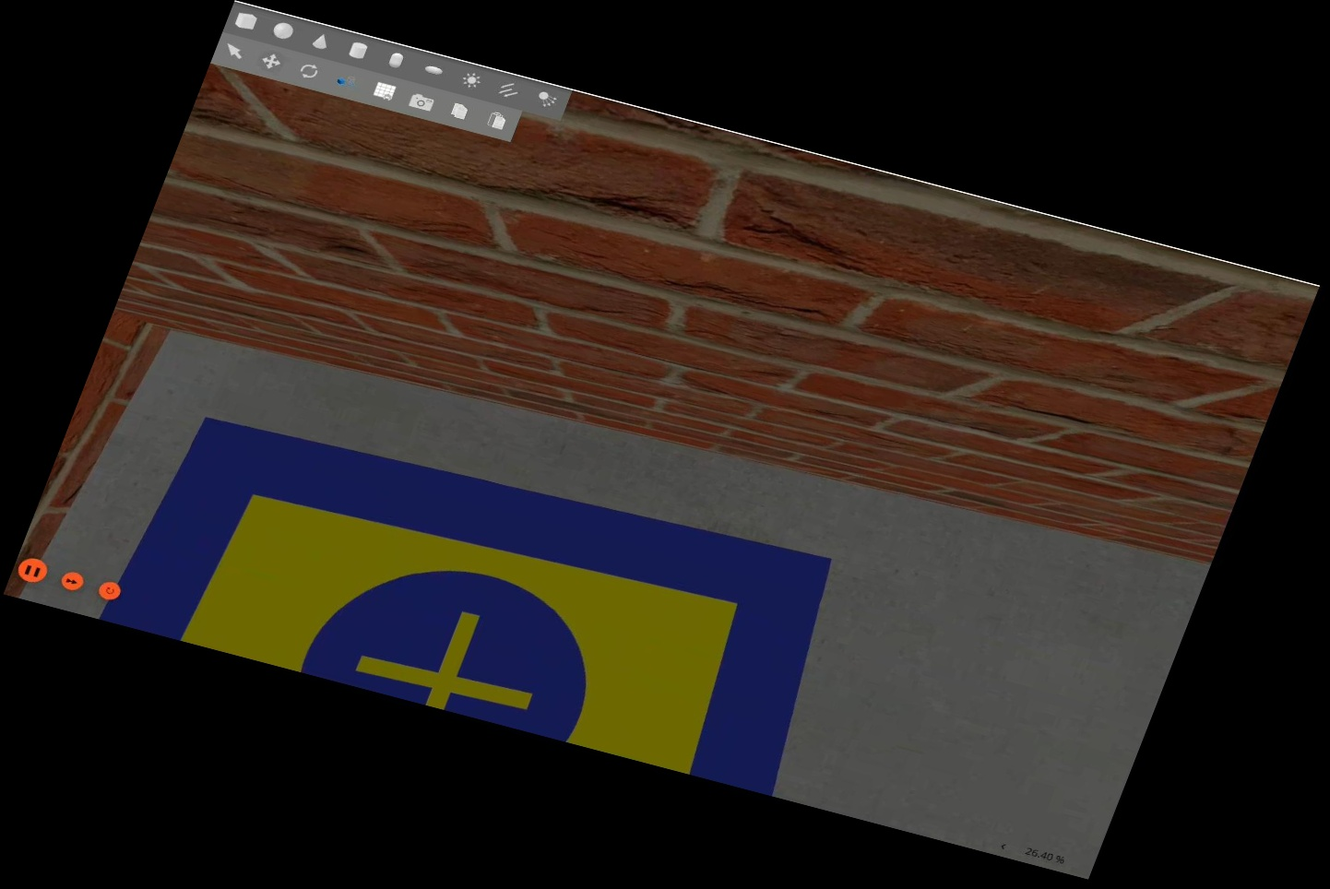large_base: (99, 387, 864, 798)
